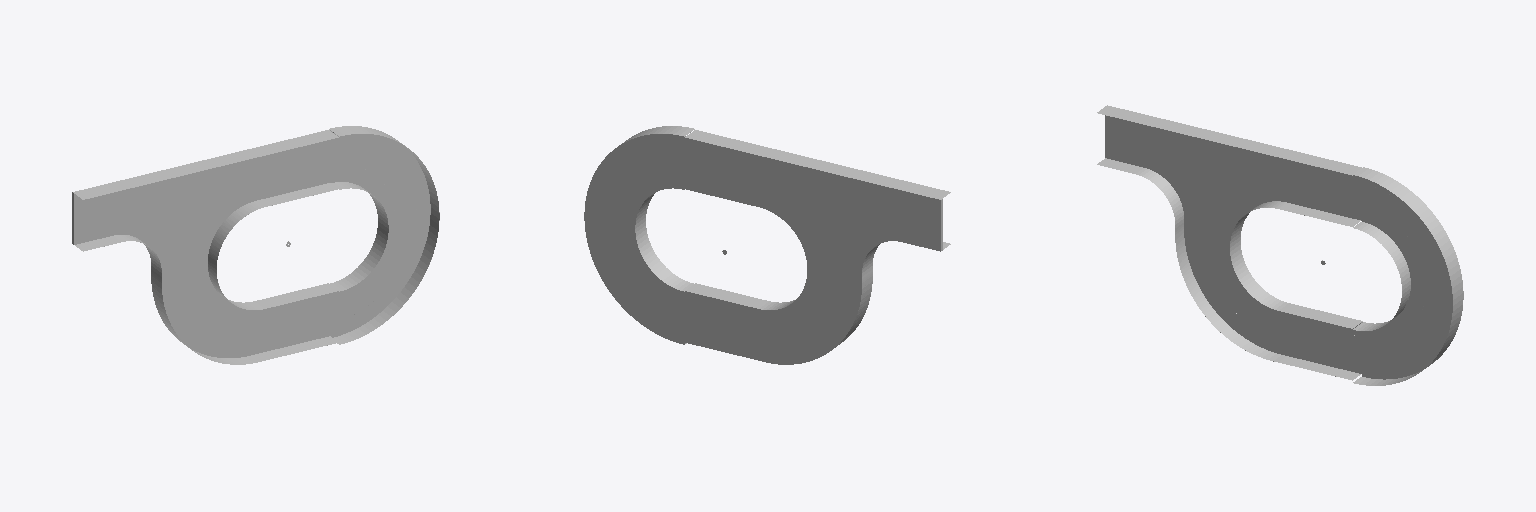
File: Medium Oval.obj
3 views of the same model, side by side, from view 1: azimuth 30°, elevation 25°; view 2: azimuth 150°, elevation 25°; view 3: azimuth 330°, elevation 25° (orthographic).
Visible parts, largest first — view 1: Body5; view 2: Body5; view 3: Body5.
Part boxes in pixels (x1,y1,x2,y2): Body5: (72, 126, 439, 364); Body5: (584, 126, 950, 364); Body5: (1097, 105, 1463, 385).
Bounding box in the file's own units: 5.87 × 3.28 × 0.3048.